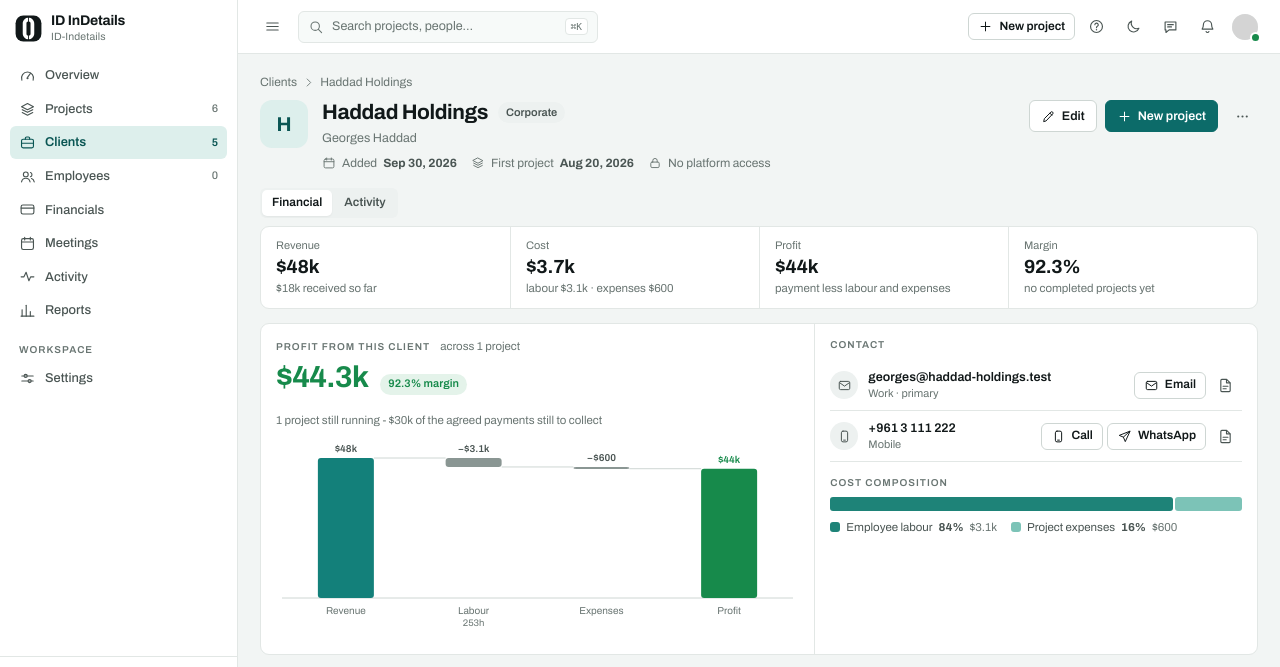
it: a client › says that archiving ends the contacts' client portal access
The image size is (1280, 667).
Click the button named "Client actions". click: click(1242, 116)
box: left=1226, top=100, right=1258, bottom=132
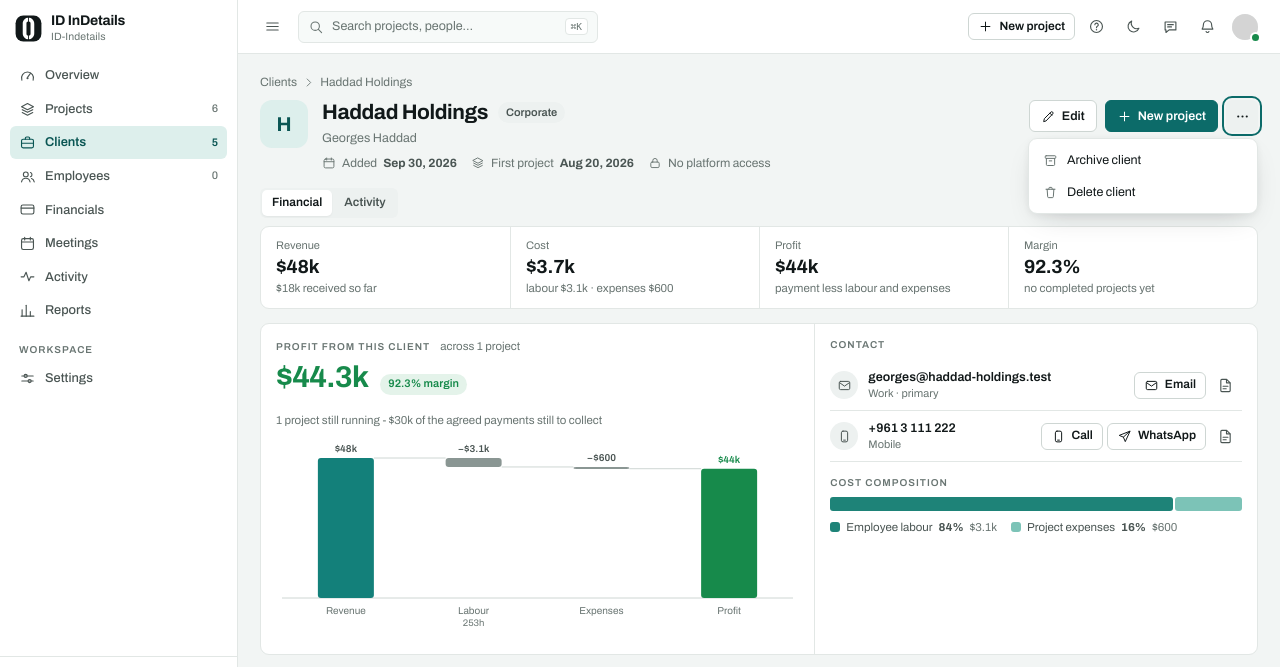
Click the button "Archive client". click: click(1143, 160)
box: left=1034, top=144, right=1252, bottom=176
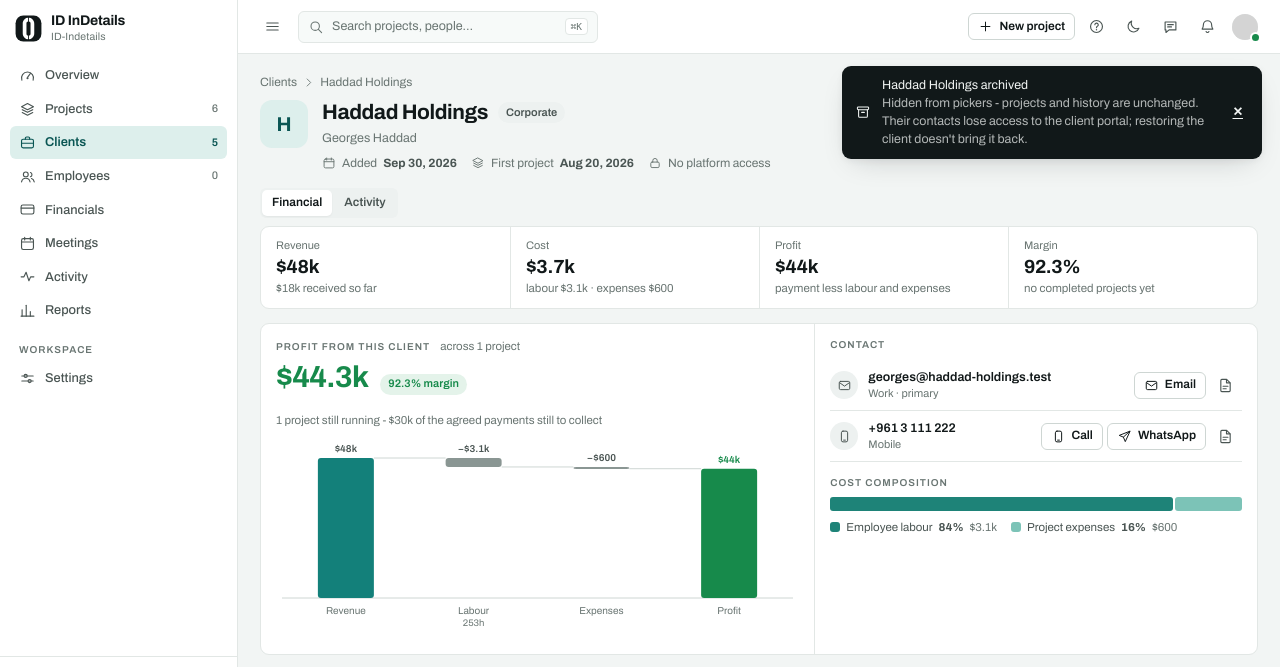
expect the text "Hidden from pickers - projects and history are unchanged. Their contacts lose access to the client portal; restoring the" is shown: met, box left=882, top=96, right=1204, bottom=146
